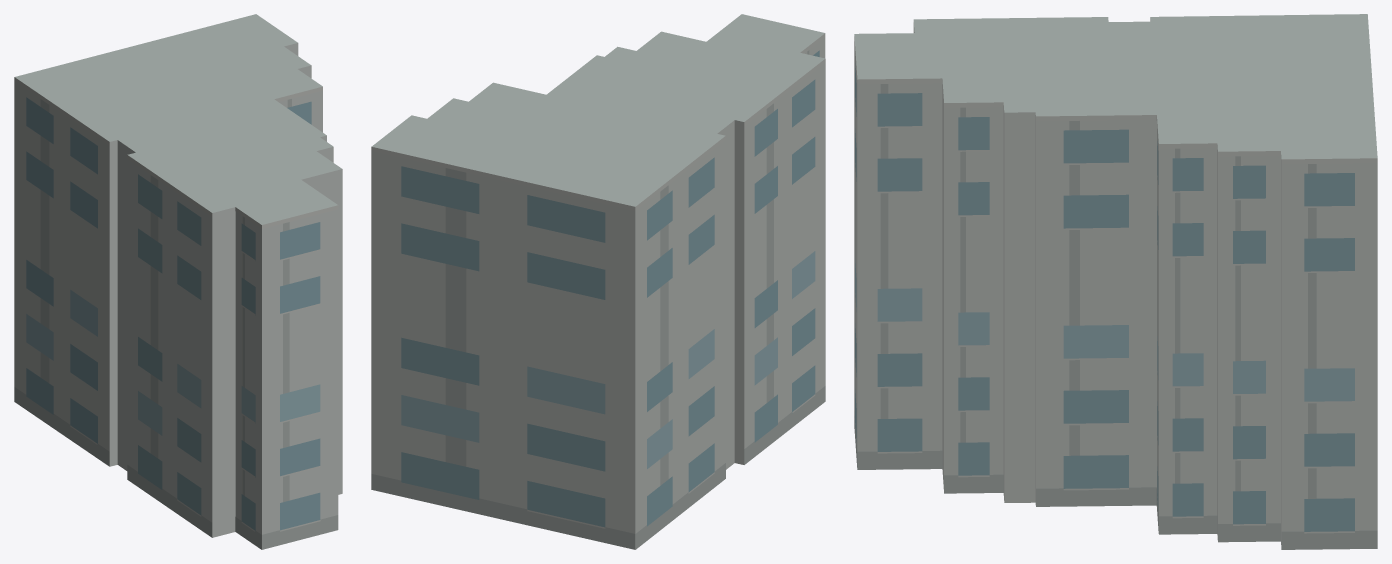
File: survey-upis-32970020.glb
The picture shows the model from 3 angles, left to right: view 1: azimuth 30°, elevation 25°; view 2: azimuth 150°, elevation 25°; view 3: azimuth 270°, elevation 25°; orthographic projection. The views are drawn at different scales.
Parts seen in each view (by area): view 1: survey-upis-32970020.tmp; view 2: survey-upis-32970020.tmp; view 3: survey-upis-32970020.tmp.
Part boxes in pixels (x1=…): survey-upis-32970020.tmp: x1=14, y1=14, x2=342, y2=549; survey-upis-32970020.tmp: x1=371, y1=14, x2=825, y2=549; survey-upis-32970020.tmp: x1=854, y1=14, x2=1377, y2=549.
Size of the model in its own units: 15.42 by 19.3 by 23.46.
